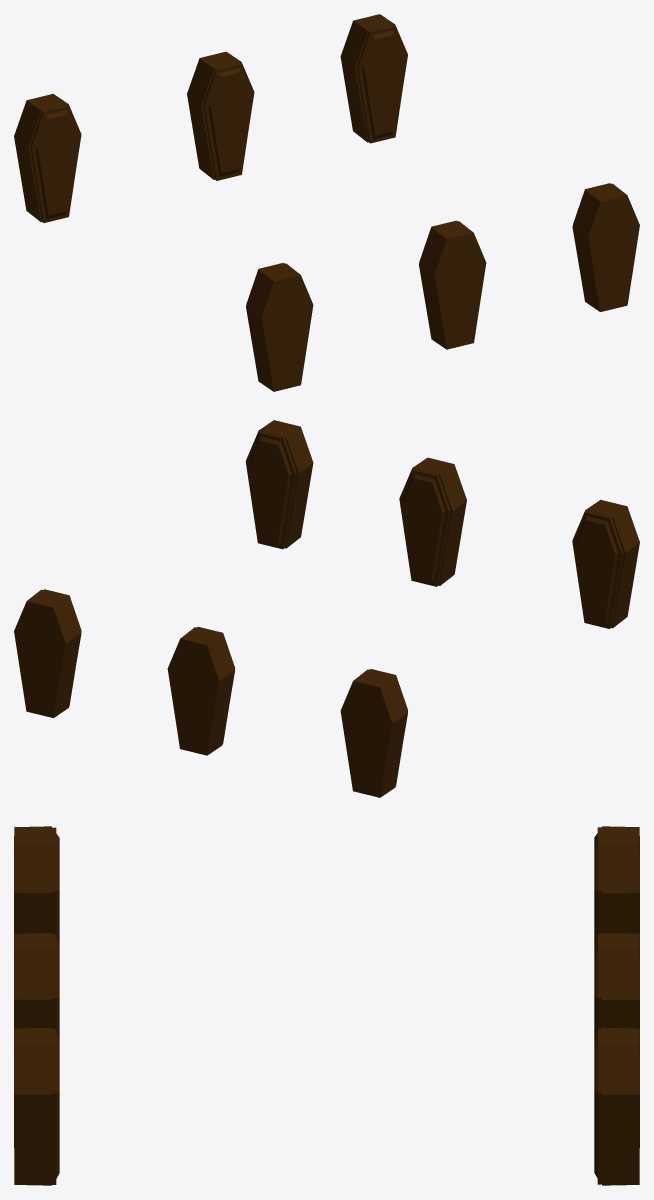
File: P_Ataud.obj
3 views of the same model, one above another, from view 1: azimuth 30°, elevation 25°; view 2: azimuth 150°, elevation 25°; view 3: azimuth 270°, elevation 25° (orthographic). The views are drawn at different scales.
Parts seen in each view (by area): view 1: P_Ataud.004, P_Ataud.002, P_Ataud, P_Ataud.003, P_Ataud.001, P_Ataud.005; view 2: P_Ataud.003, P_Ataud.002, P_Ataud.004, P_Ataud.005, P_Ataud.001, P_Ataud; view 3: P_Ataud.005, P_Ataud.004, P_Ataud.002, P_Ataud.001, P_Ataud.003, P_Ataud.
Part boxes in pixels (x1,y1,x2,y2): P_Ataud.004: (572,183,639,311); P_Ataud.002: (246,263,313,391); P_Ataud: (187,51,254,180); P_Ataud.003: (419,220,486,349); P_Ataud.001: (14,93,81,222); P_Ataud.005: (340,14,407,143); P_Ataud.003: (399,457,466,586); P_Ataud.002: (572,499,639,628); P_Ataud.004: (246,420,313,549); P_Ataud.005: (14,589,81,717); P_Ataud.001: (340,669,407,797); P_Ataud: (167,626,235,755); P_Ataud.005: (594,1027,639,1185); P_Ataud.004: (14,1027,59,1185); P_Ataud.002: (14,826,59,943); P_Ataud.001: (594,826,639,943); P_Ataud.003: (14,933,59,1038); P_Ataud: (594,933,639,1038).
Size of the model in its own units: 10.65 by 2.99 by 12.03.
